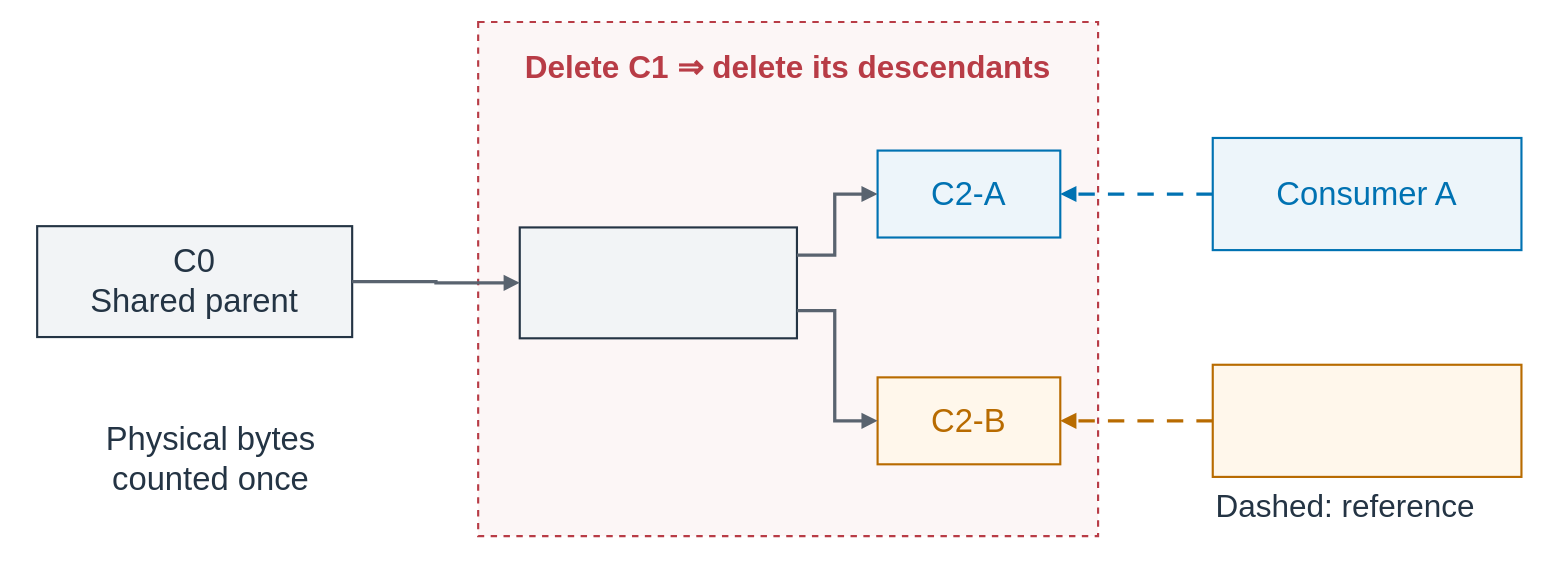
This 1557x575 diagram has some shape labels left out. The box of each missing label's shape, as (x1, y1, x2, y2) in pixels:
C1 Shared parent: (518, 226, 797, 339)
Consumer B: (1211, 363, 1522, 477)
